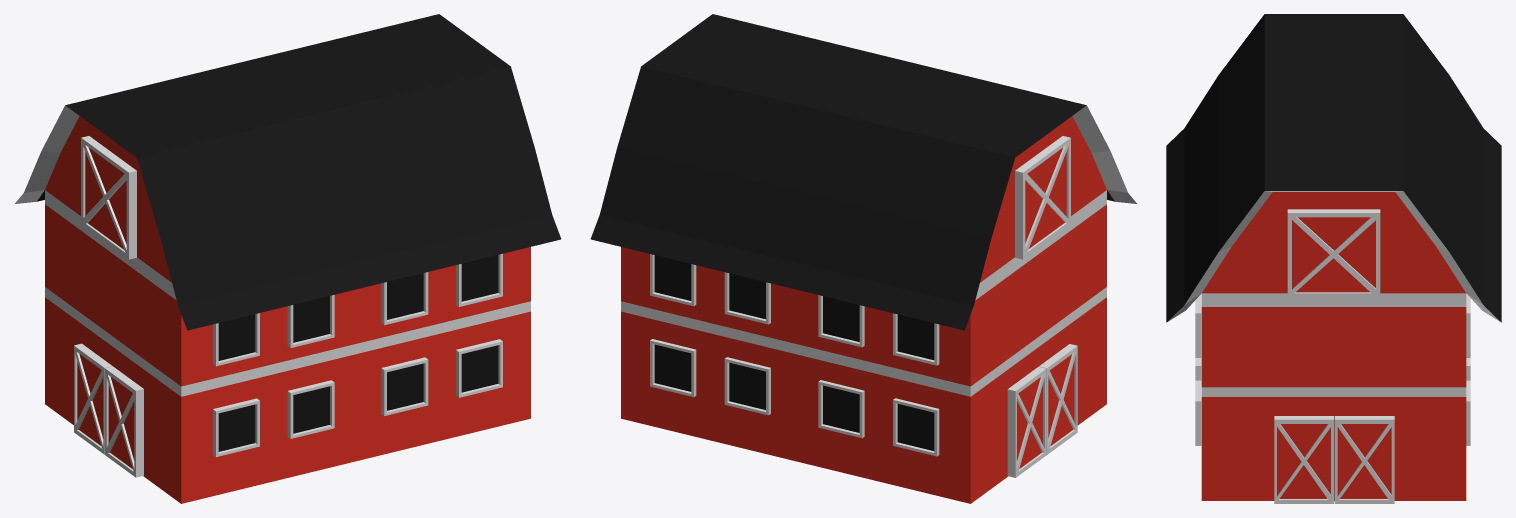
The model's file is barn.fbx.
The picture shows the model from 3 angles, left to right: view 1: azimuth 30°, elevation 25°; view 2: azimuth 150°, elevation 25°; view 3: azimuth 270°, elevation 25°; orthographic projection. The views are drawn at different scales.
Parts seen in each view (by area): view 1: Cube; view 2: Cube; view 3: Cube.
Part boxes in pixels (x1,y1,x2,y2): Cube: (15, 14, 561, 503); Cube: (590, 14, 1136, 503); Cube: (1166, 14, 1501, 503).
Bounding box in the file's own units: 1700 × 1414 × 1361.
